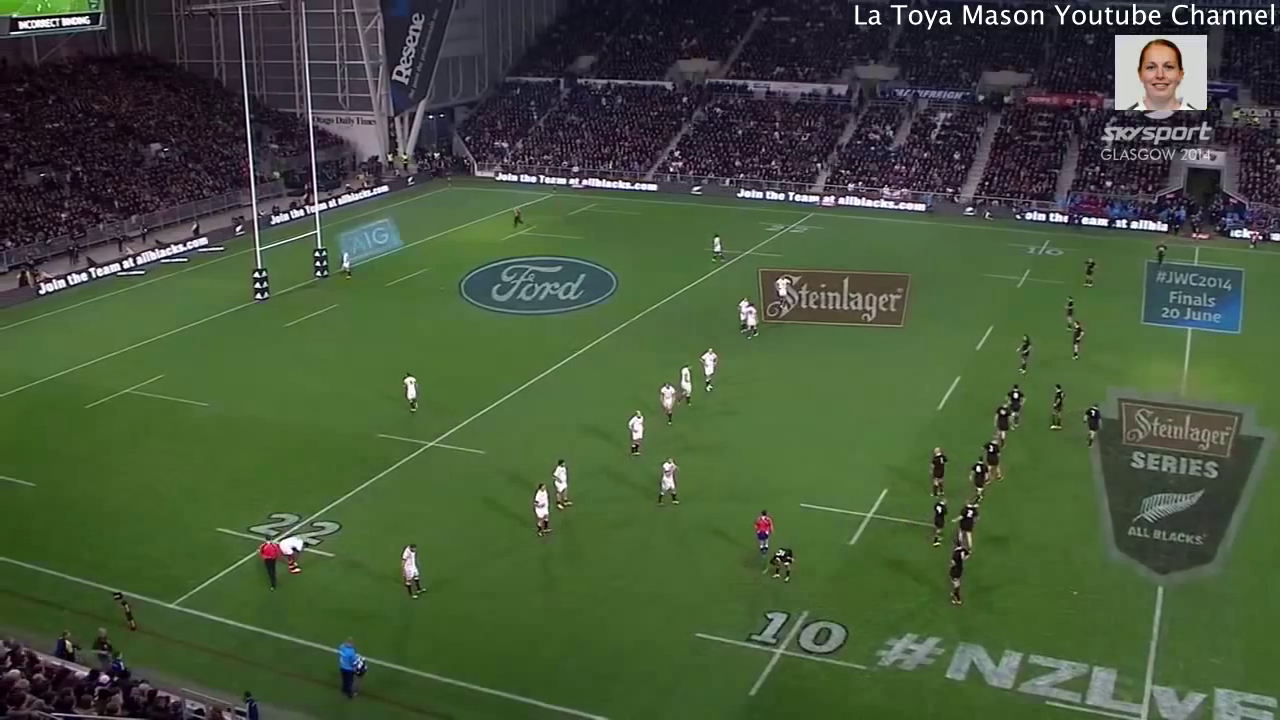10_metre: (690, 603, 875, 719), (797, 483, 936, 554), (982, 264, 1064, 294), (1006, 237, 1086, 264)
player: (946, 537, 971, 612), (526, 480, 557, 539), (654, 454, 685, 512), (259, 527, 285, 596), (949, 498, 980, 553), (547, 456, 577, 511), (399, 536, 423, 604), (274, 537, 315, 576), (624, 404, 650, 463), (924, 445, 949, 498), (1078, 400, 1102, 449), (968, 454, 989, 508), (694, 346, 717, 394), (672, 362, 695, 409), (1004, 382, 1026, 431), (768, 540, 794, 581), (752, 506, 772, 557), (399, 368, 421, 414), (656, 379, 678, 424), (1048, 382, 1068, 431), (932, 496, 951, 547), (994, 401, 1013, 451), (983, 435, 1003, 481), (1017, 332, 1036, 378), (1070, 321, 1088, 362), (336, 244, 356, 280), (775, 272, 792, 311), (1062, 292, 1076, 334), (737, 296, 753, 331), (1152, 239, 1168, 274), (746, 306, 761, 343), (508, 206, 525, 234), (710, 228, 723, 263), (1084, 257, 1096, 289)
post: (239, 41, 331, 305)
